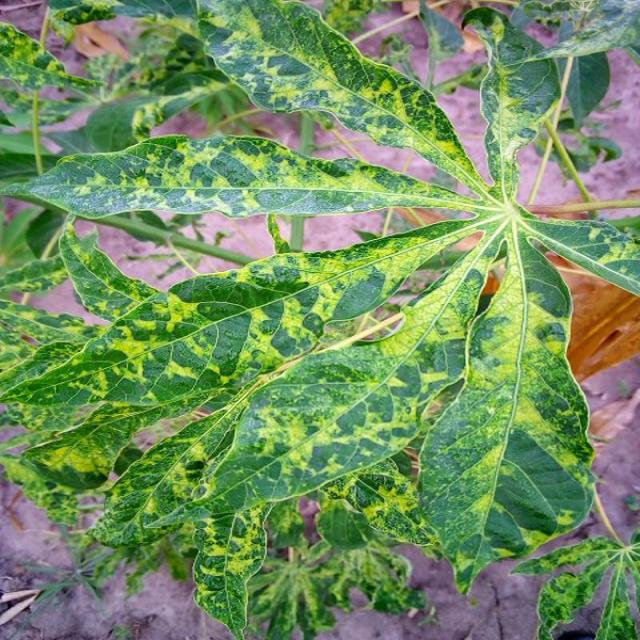Mosaico: (145, 7, 580, 487), (66, 254, 452, 630)
